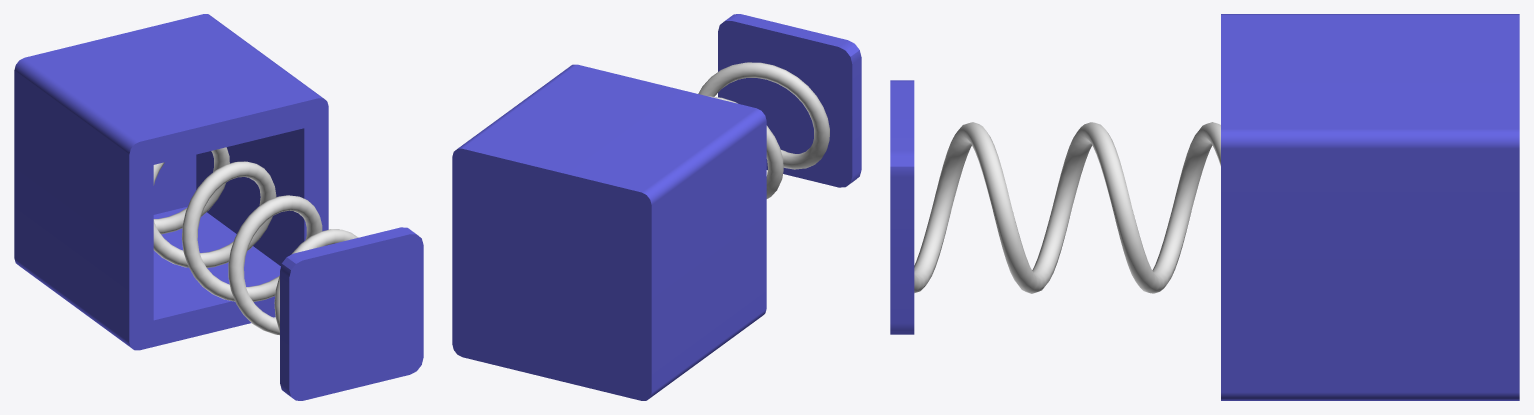
The model's file is Wall.fbx.
3 views of the same model, side by side, from view 1: azimuth 30°, elevation 25°; view 2: azimuth 150°, elevation 25°; view 3: azimuth 270°, elevation 25° (orthographic). The views are drawn at different scales.
Visible parts, largest first — view 1: polySurface1, polySurface2, polySurface3; view 2: polySurface1, polySurface2, polySurface3; view 3: polySurface1, polySurface3, polySurface2.
Boxes of the visible parts, x1=… form: polySurface1: x1=14, y1=14, x2=328, y2=350; polySurface2: x1=280, y1=227, x2=423, y2=400; polySurface3: x1=153, y1=147, x2=357, y2=335; polySurface1: x1=452, y1=64, x2=766, y2=400; polySurface2: x1=718, y1=14, x2=861, y2=187; polySurface3: x1=698, y1=62, x2=829, y2=198; polySurface1: x1=1221, y1=14, x2=1519, y2=400; polySurface3: x1=914, y1=122, x2=1220, y2=293; polySurface2: x1=890, y1=80, x2=914, y2=334.
Bounding box in the file's own units: 3.55 × 3.55 × 7.48.
